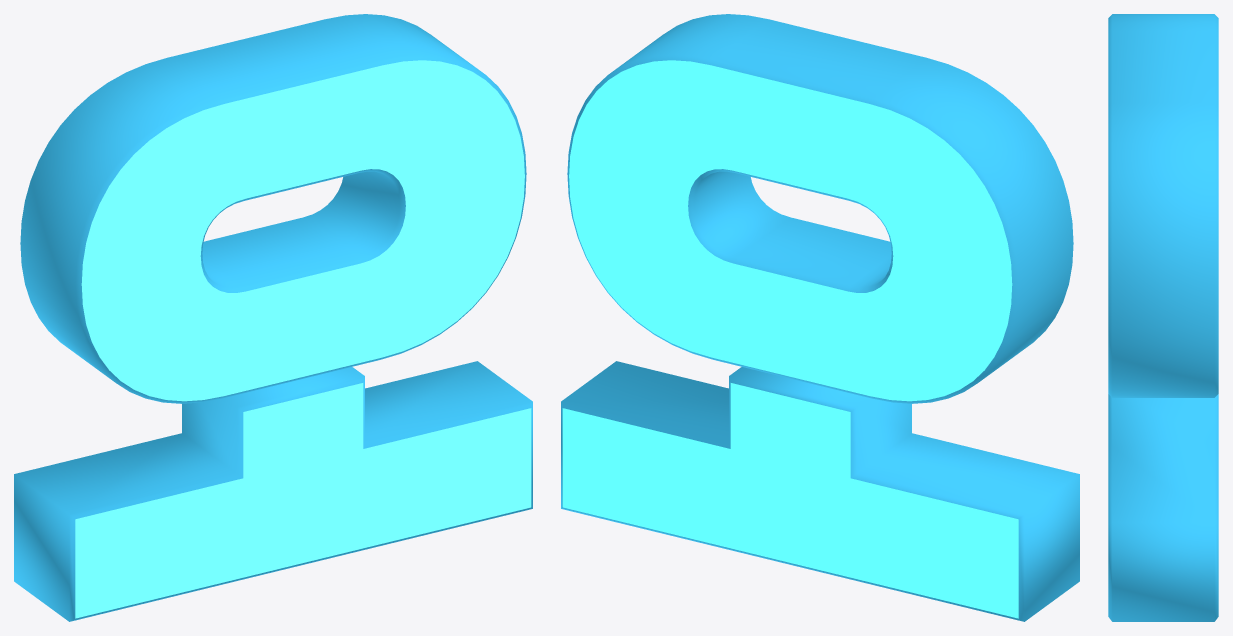
3 views of the same model, side by side, from view 1: azimuth 30°, elevation 25°; view 2: azimuth 150°, elevation 25°; view 3: azimuth 270°, elevation 25° (orthographic). The views are drawn at different scales.
Visible parts, largest first — view 1: glyph; view 2: glyph; view 3: glyph.
Boxes of the visible parts, <box> form: glyph: <box>14,14,532,621</box>; glyph: <box>561,14,1079,621</box>; glyph: <box>1108,14,1218,621</box>.
Bounding box in the file's own units: 0.0726 × 0.0728 × 0.0162.
